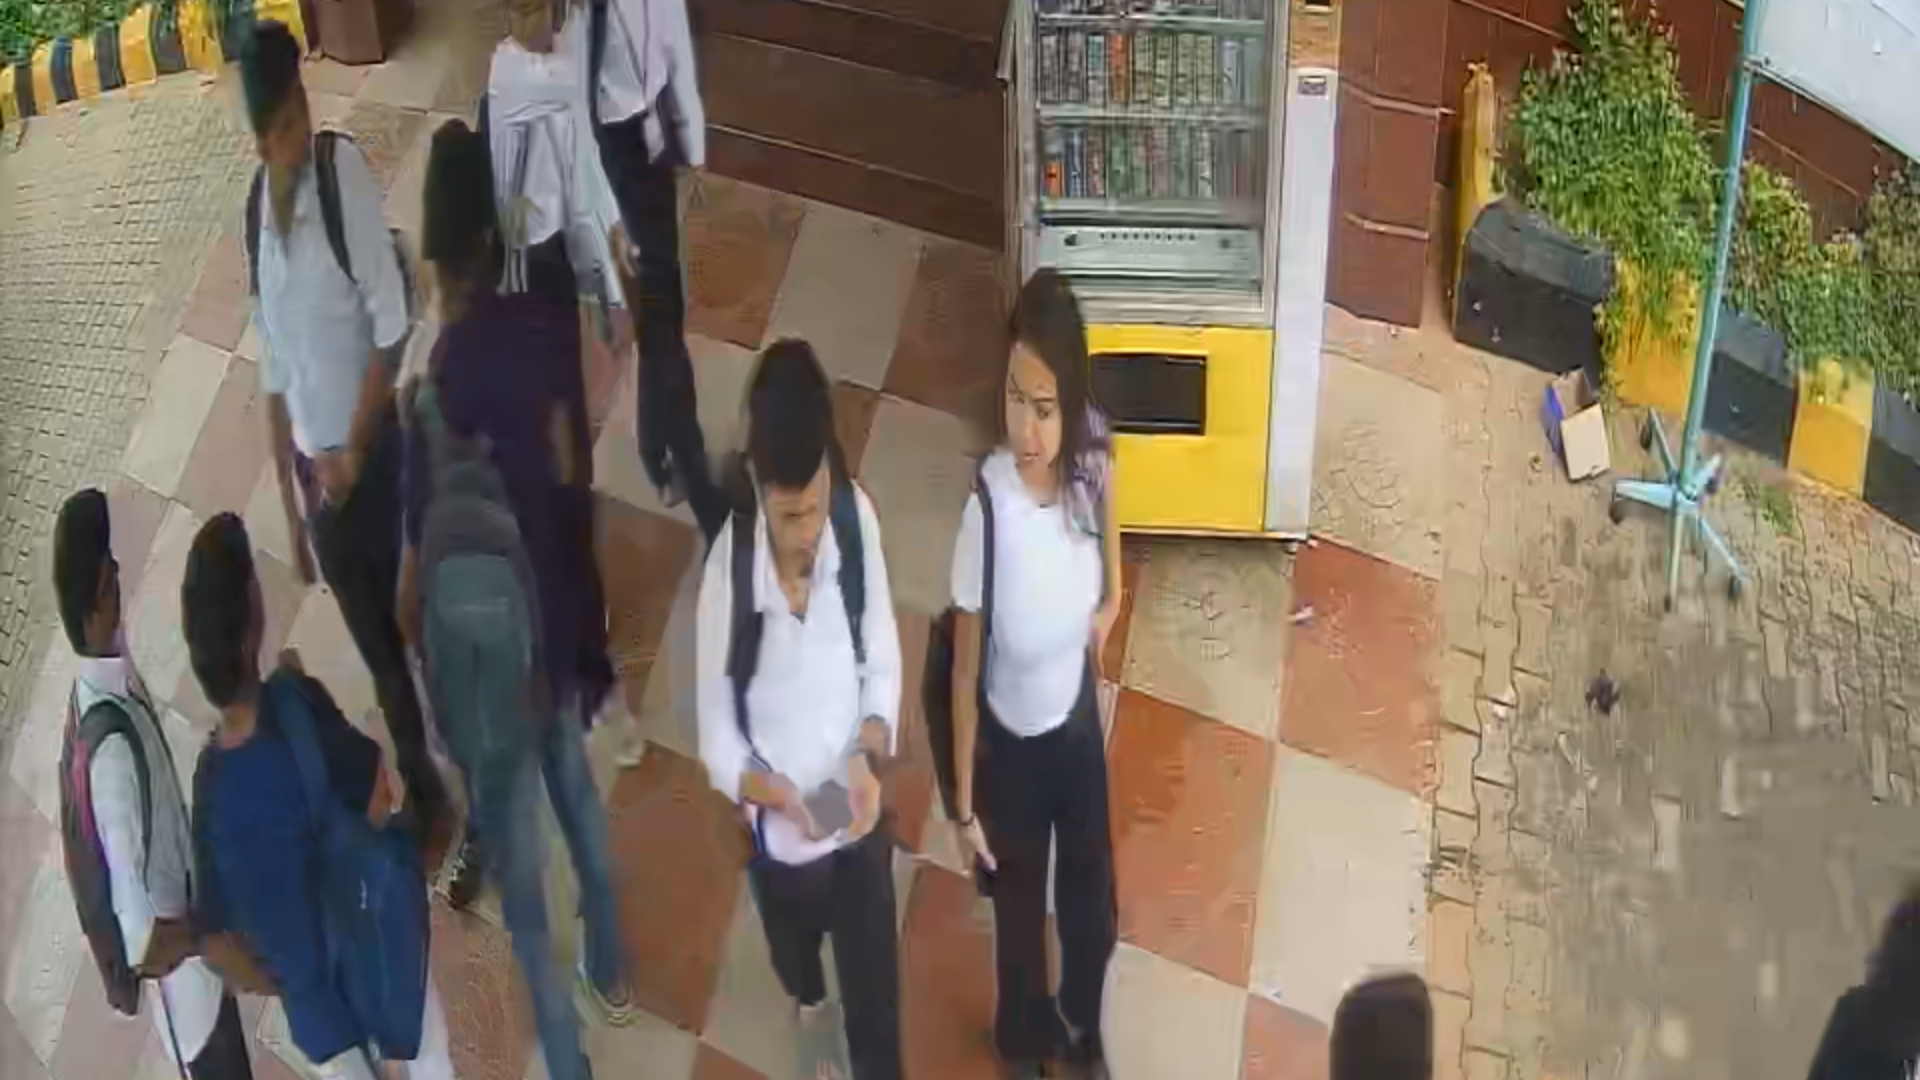intruder: (694, 343, 935, 1069), (959, 272, 1141, 1080)
